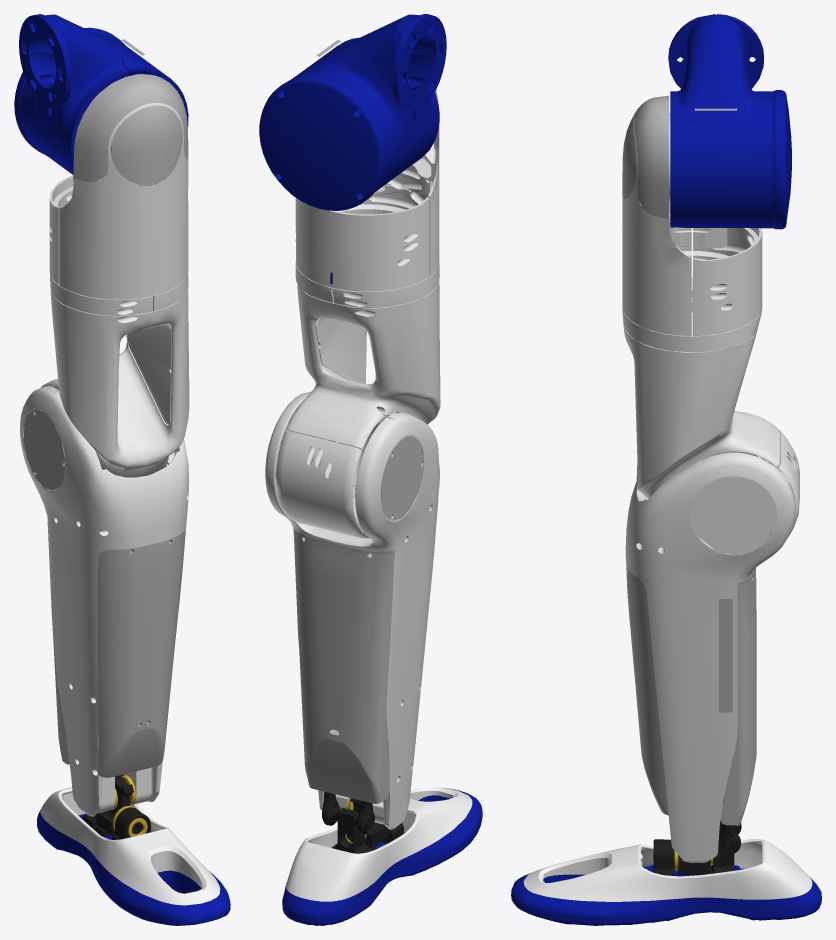
The model's file is rp1-left-leg-web.glb.
3 renders of one model, left to right at view 1: azimuth 30°, elevation 25°; view 2: azimuth 150°, elevation 25°; view 3: azimuth 270°, elevation 25°, orthographic. The views are drawn at different scales.
Parts seen in each view (by area): view 1: Plane.003, foot-2.006; view 2: Plane.003, foot-2.006; view 3: Plane.003, foot-2.006.
Part boxes in pixels (bbox=[...]): Plane.003: bbox=[14, 14, 230, 925]; foot-2.006: bbox=[53, 324, 171, 424]; Plane.003: bbox=[259, 14, 482, 925]; foot-2.006: bbox=[276, 317, 369, 538]; Plane.003: bbox=[511, 14, 821, 925]; foot-2.006: bbox=[778, 431, 799, 535].
Bounding box in the file's own units: 0.1165 × 0.7626 × 0.2497.
1 material, 1 textured.
